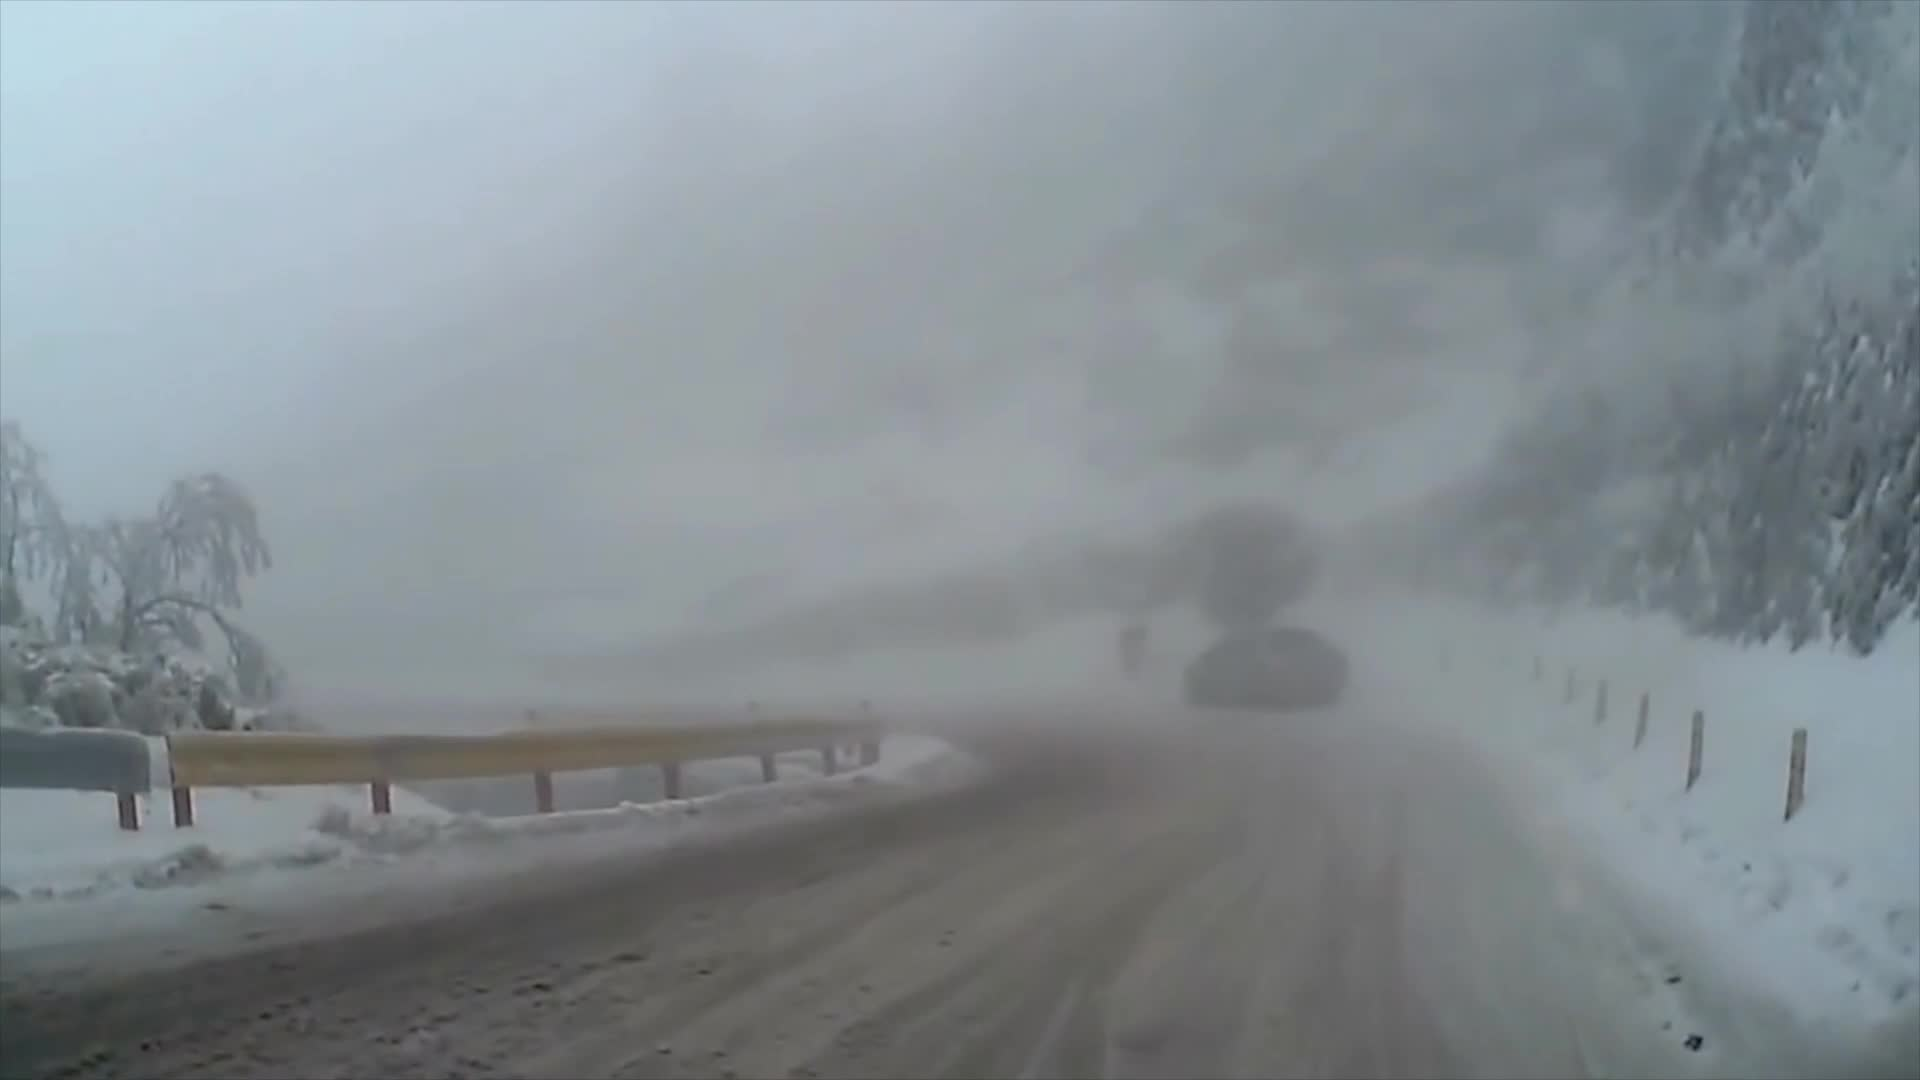vehicle: (1184, 626, 1349, 711)
